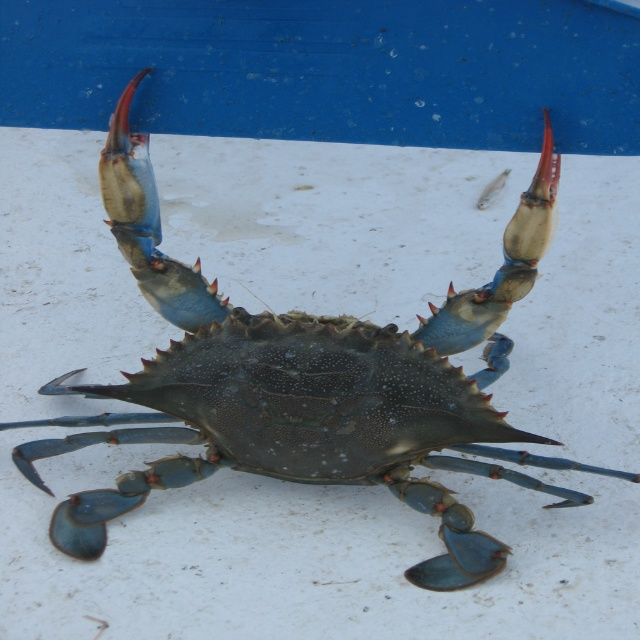Crab: (0, 65, 639, 593), (0, 67, 639, 594)
